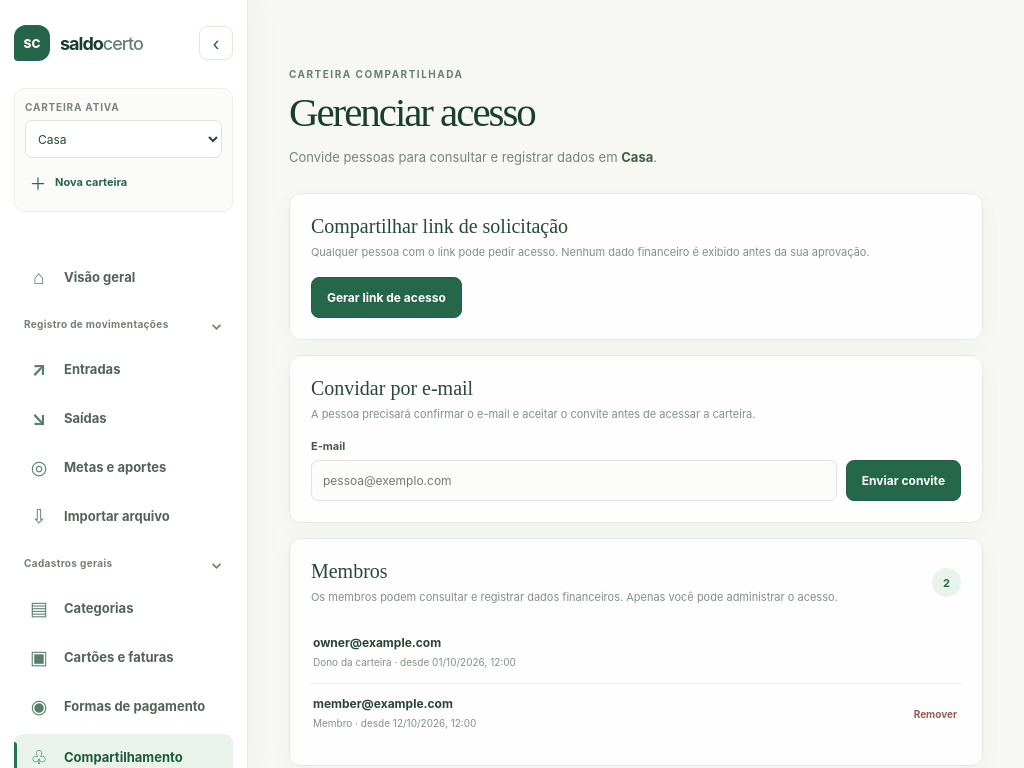
Test: wallet sharing management › copies the generated link and shows the access request history
Click the button "Gerar link de acesso": point(386, 297) [311,277,462,318]
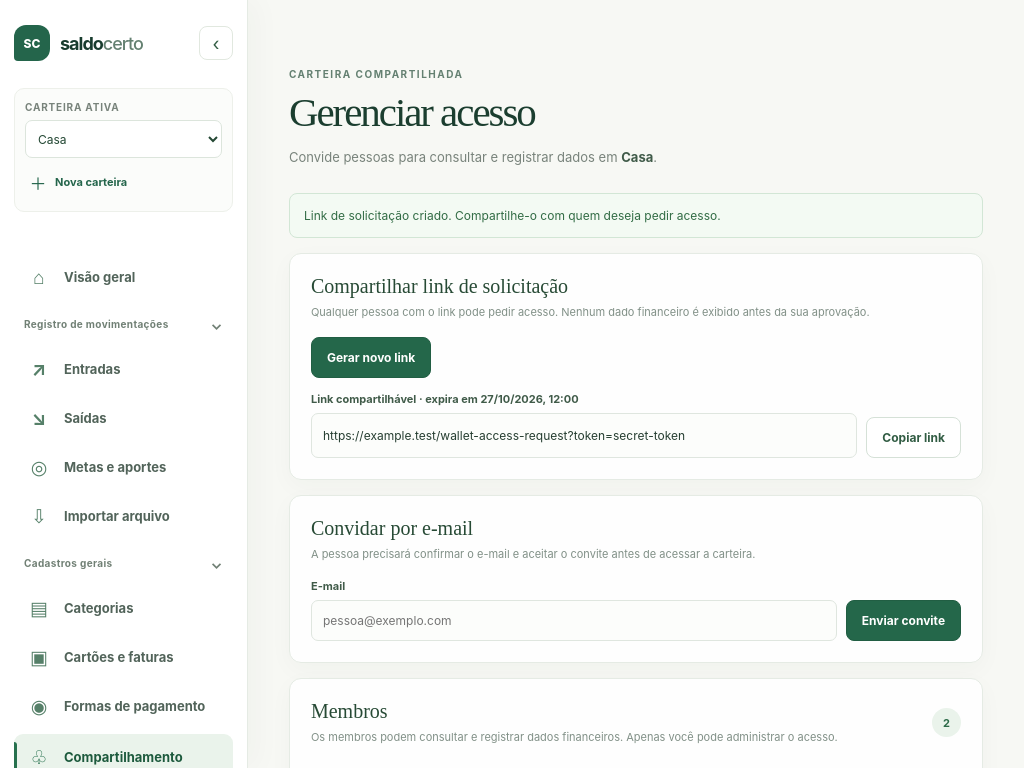
Click the button "Copiar link": point(914, 437) [866,417,961,458]
(page scrolled)
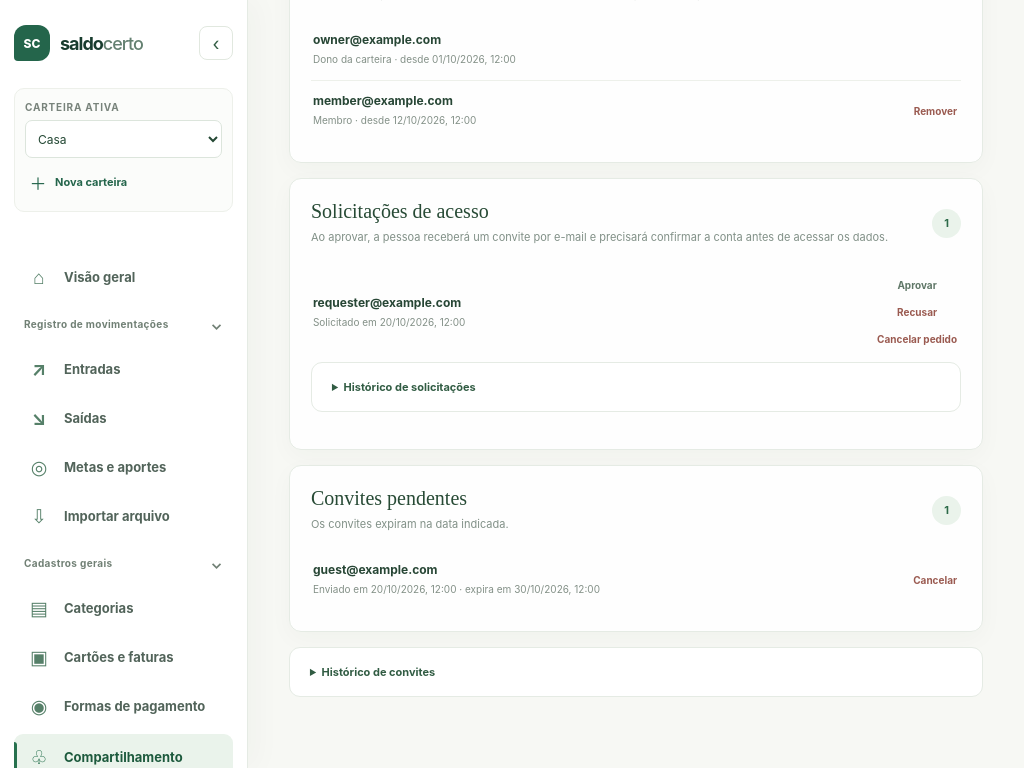
Click the heading "Histórico de solicitações": point(410, 387) [344,380,476,394]
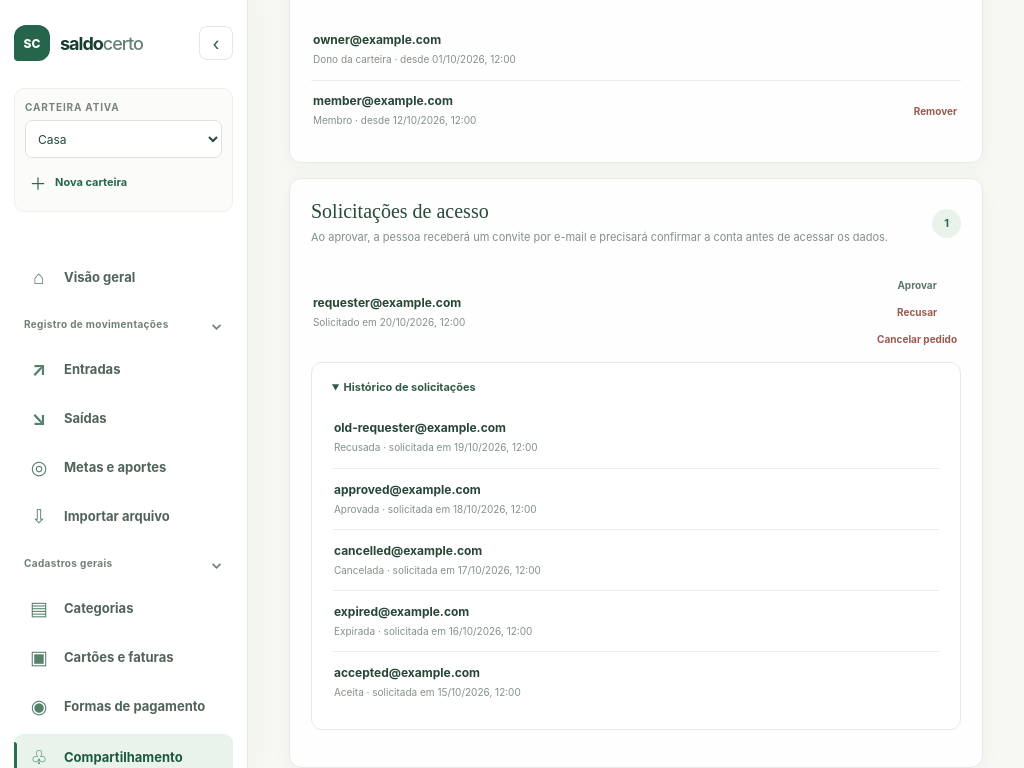
Expected: the text "old-requester@example.com" is shown, [334,420,506,435]
Expected: the text "Recusada · solicitada em 19/10/2026, 12:00" is shown, [334,440,538,455]
Expected: the text "Aprovada · solicitada em 18/10/2026, 12:00" is shown, [334,502,537,516]
